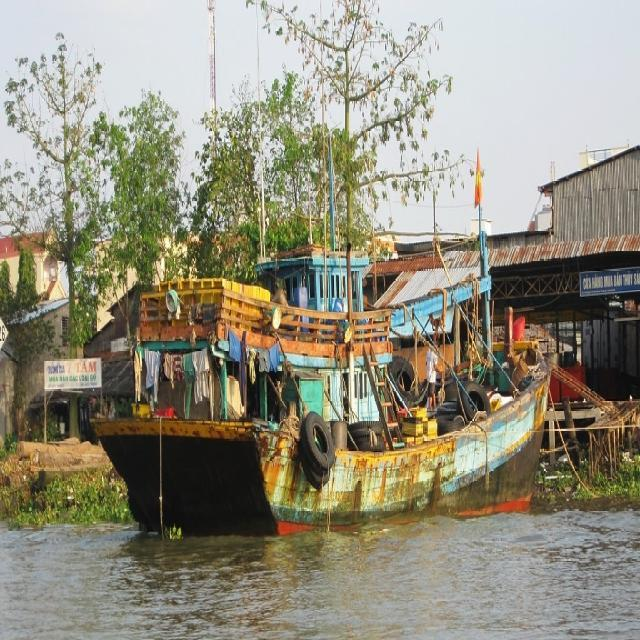Hyacinth: (37, 478, 126, 535), (568, 461, 638, 516)
boat: (115, 264, 569, 552)
